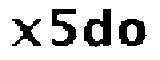5: (47, 6, 81, 51)
d: (83, 6, 113, 51)
o: (119, 17, 149, 50)
x: (9, 17, 41, 47)
